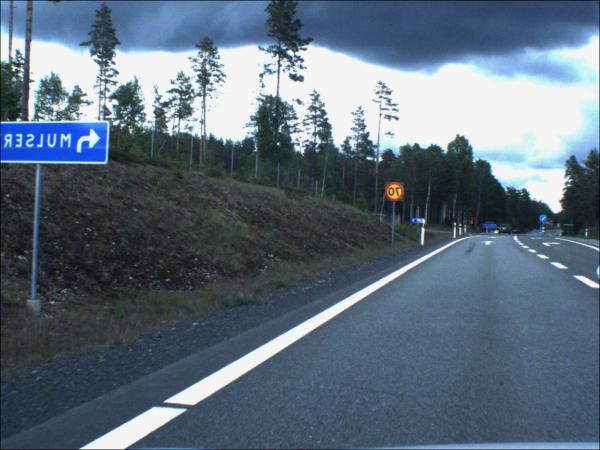70_SIGN: (385, 183, 405, 203), (470, 217, 475, 222)
PASS_RIGHT_SIDE: (539, 216, 547, 224)
PRIORITY_ROAD: (470, 222, 475, 227)
